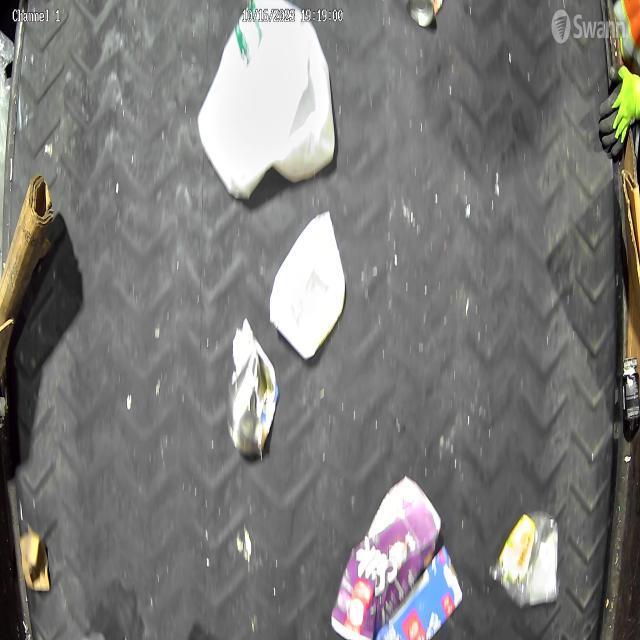can: (406, 0, 437, 29)
milk_jug: (197, 0, 313, 201), (270, 8, 336, 185)
